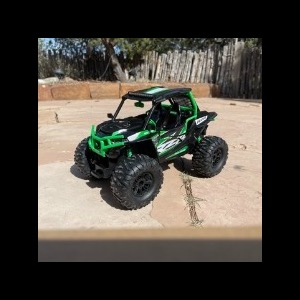polaris: (74, 85, 229, 211)
